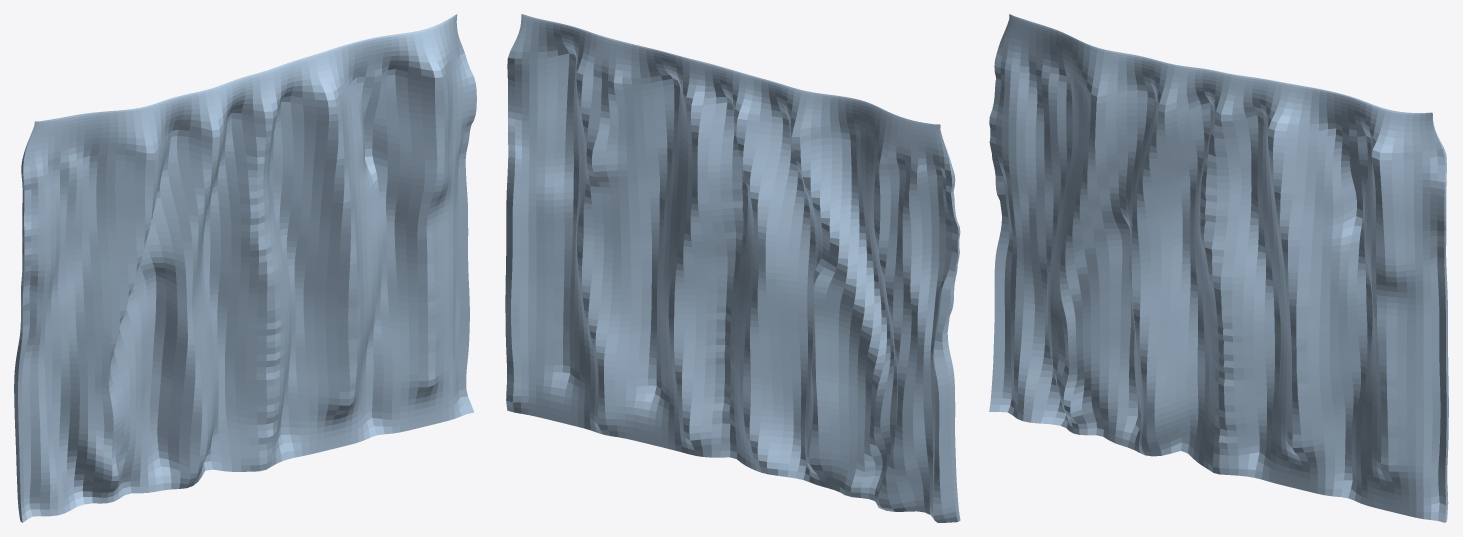
Rendered from shower_curtain.glb.
3 renders of one model, left to right at view 1: azimuth 30°, elevation 25°; view 2: azimuth 150°, elevation 25°; view 3: azimuth 330°, elevation 25°, orthographic.
Parts seen in each view (by area): view 1: Cube.011; view 2: Cube.011; view 3: Cube.011.
Part boxes in pixels (left/top/right/bottom): Cube.011: left=14, top=14, right=476, bottom=522; Cube.011: left=505, top=14, right=960, bottom=522; Cube.011: left=989, top=14, right=1448, bottom=522.
Size of the model in its own units: 3.62 by 3.07 by 0.4763.
